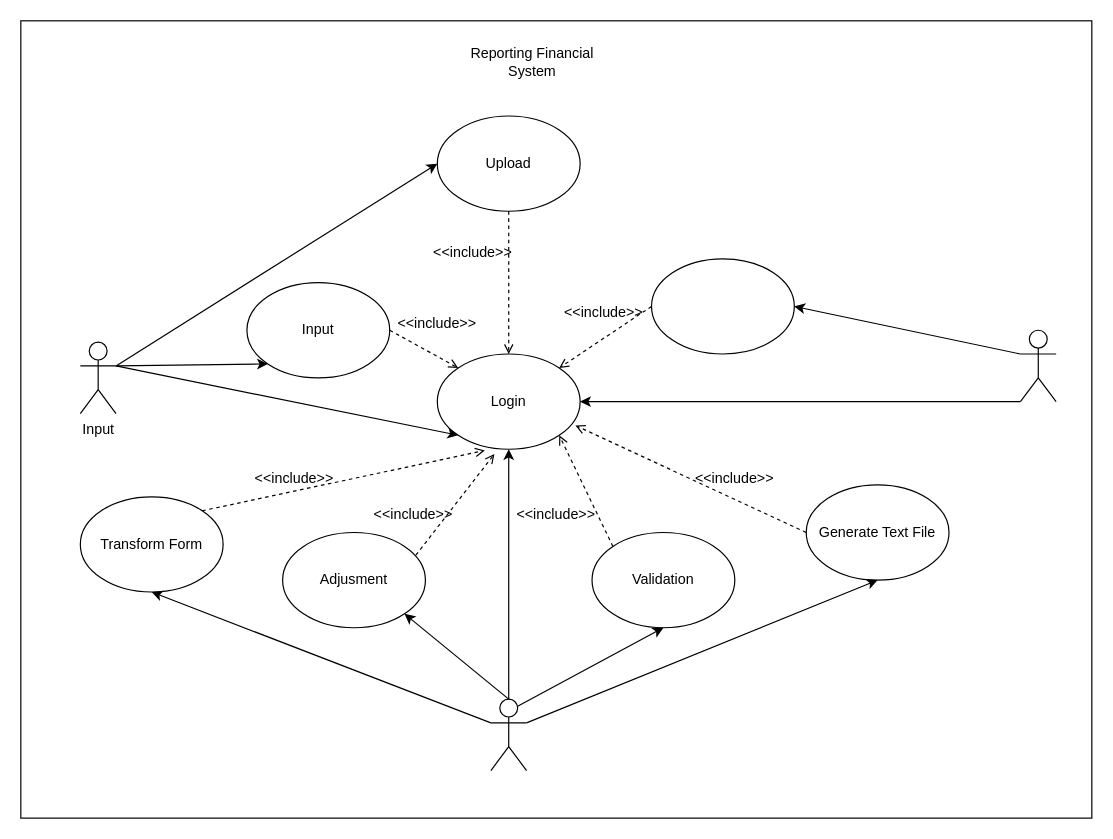
Some shapes in this 1113 by 839 pixel diagram are drawn without their labels. Here are the shapes that lost their labels. From the top down, the centre of each, then its label:
[722,306]: Process Data Source
[1037,365]: Admin
[508,734]: Generator
